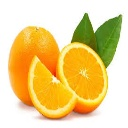orange: (8, 24, 63, 109), (55, 41, 109, 115), (26, 54, 78, 118)
